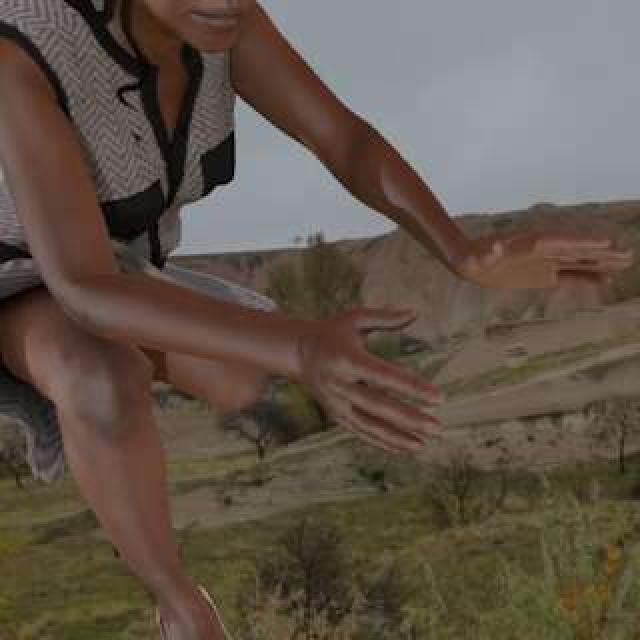not-gloved: (283, 299, 460, 481), (447, 197, 640, 315)
